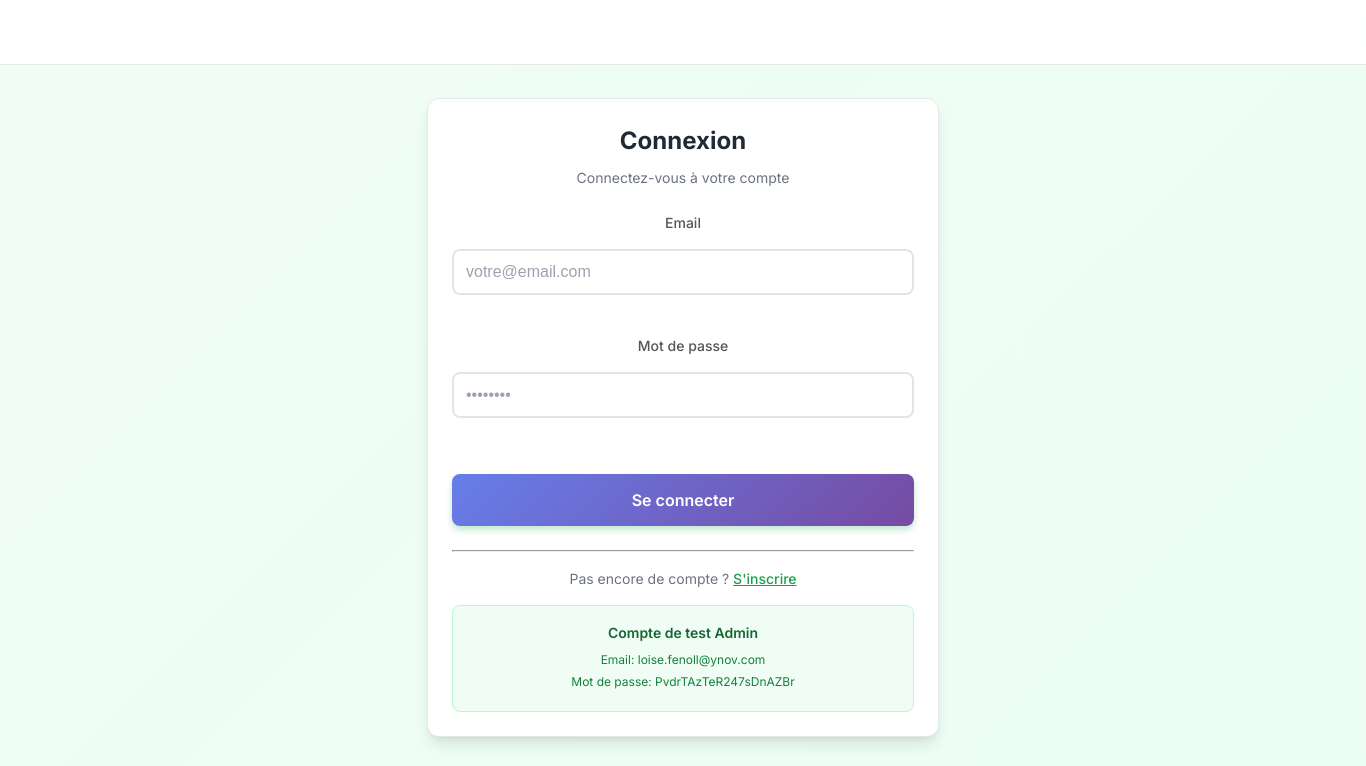
it: Tests d'authentification › Inscription › Devrait basculer vers le formulaire de connexion
expect the heading "Connexion" is shown: met, box [620,126,746,154]
Click the button "S'inscrire" at (765, 579), box [733,570,796,587]
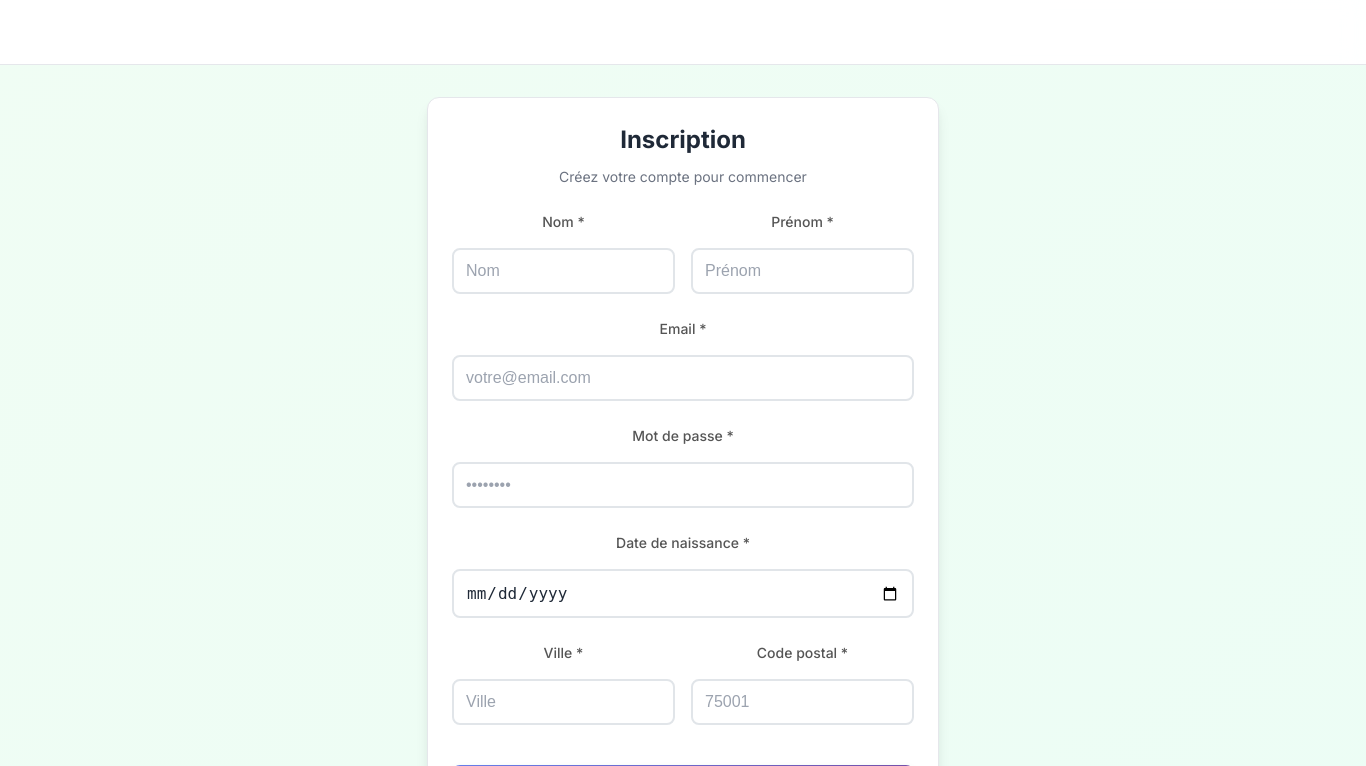
expect the heading with class "auth-title" reads "Inscription": met, box [620,125,746,154]
expect the field with id "last_name" is shown: met, box [452,248,675,294]
Scroll
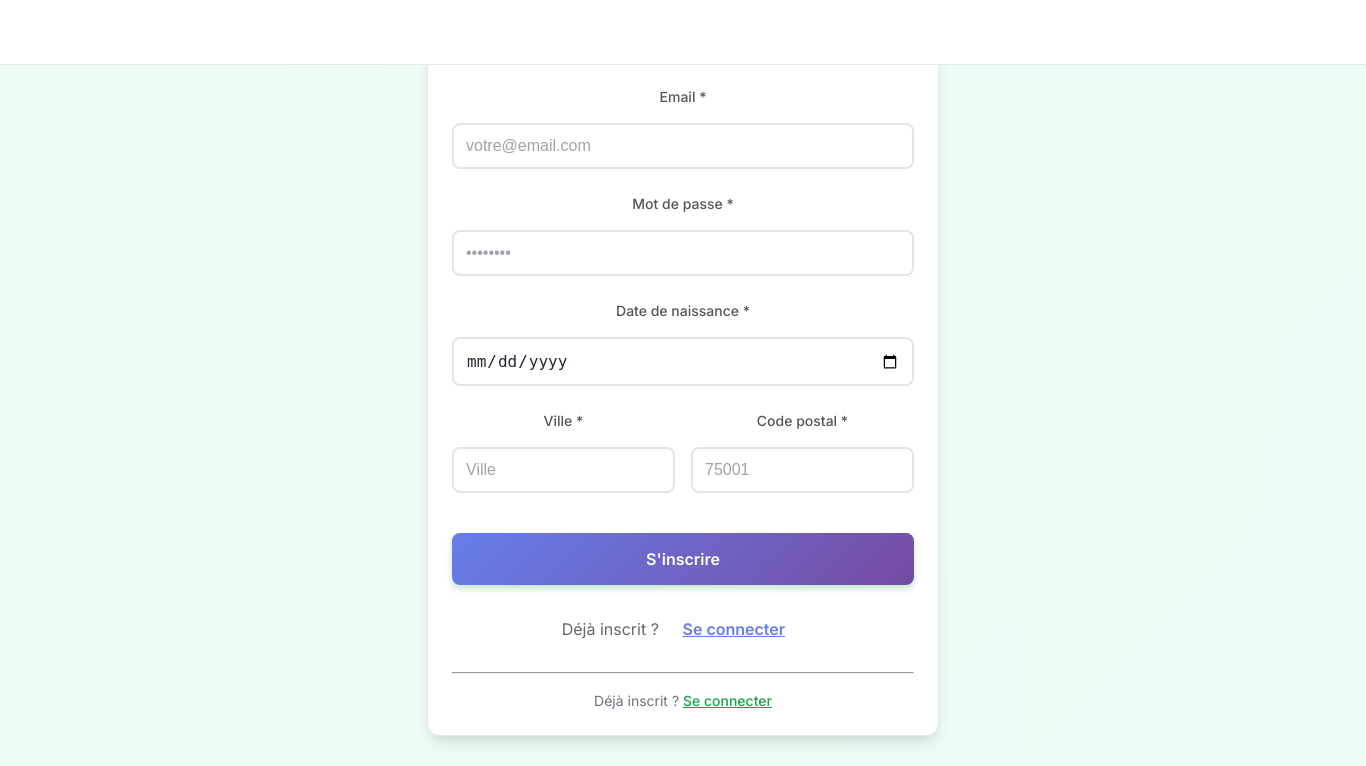
Click the button "Se connecter" below "Ville *" at (734, 629), box [663,609,804,648]
(page scrolled)
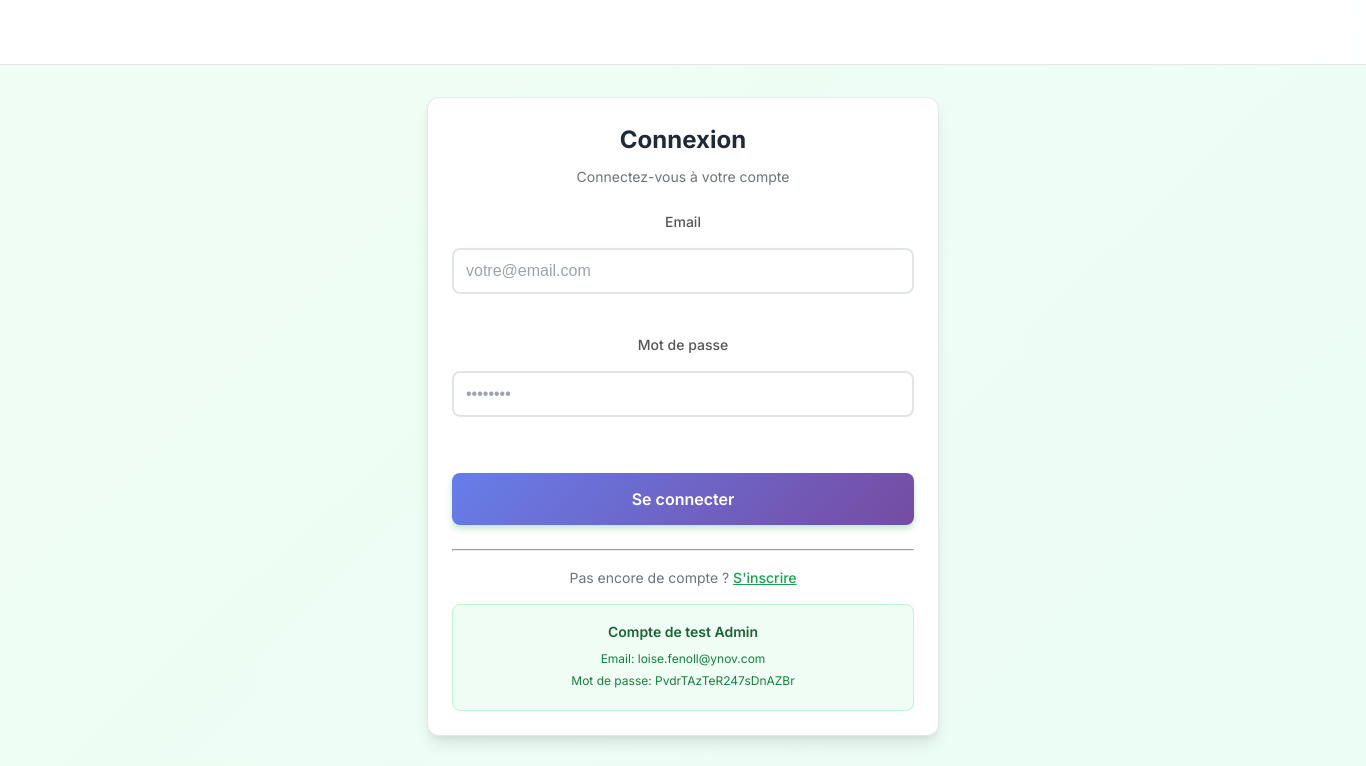
expect the heading with class "auth-title" reads "Connexion": met, box [620,125,746,154]
expect the field with id "login-email" is shown: met, box [452,248,914,294]
